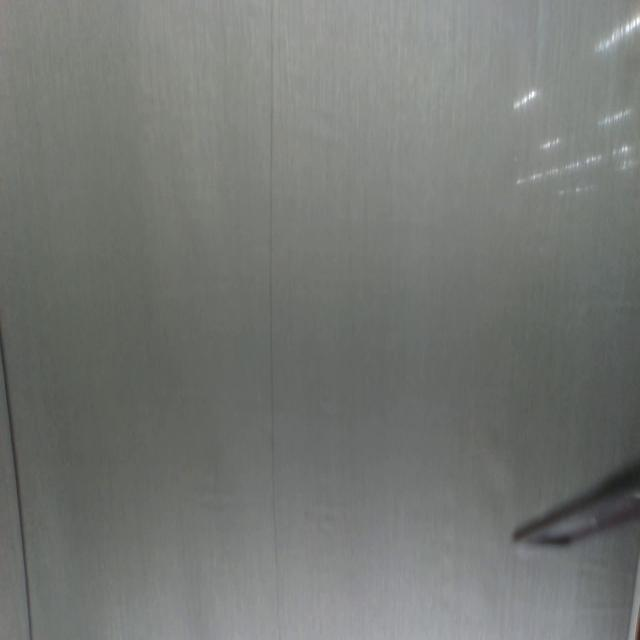crease: (1, 324, 35, 640), (268, 2, 281, 640)
